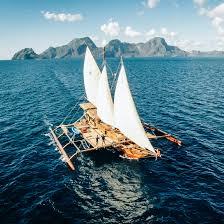boat: (47, 45, 182, 171)
